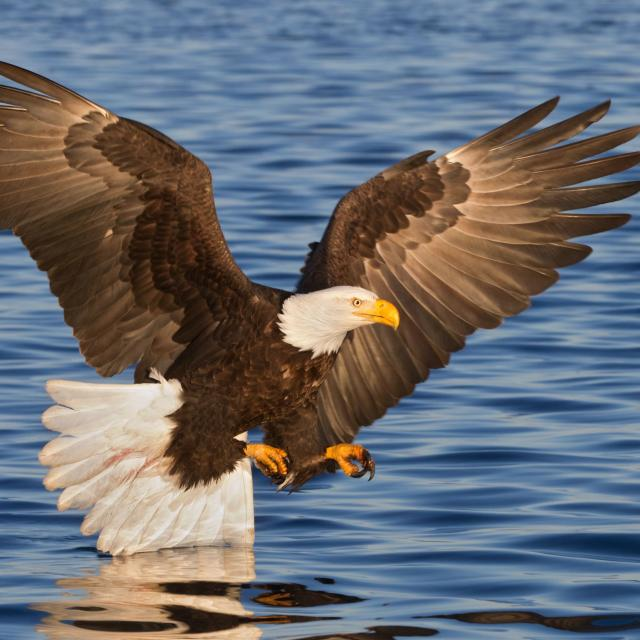eagle: (0, 62, 638, 554)
